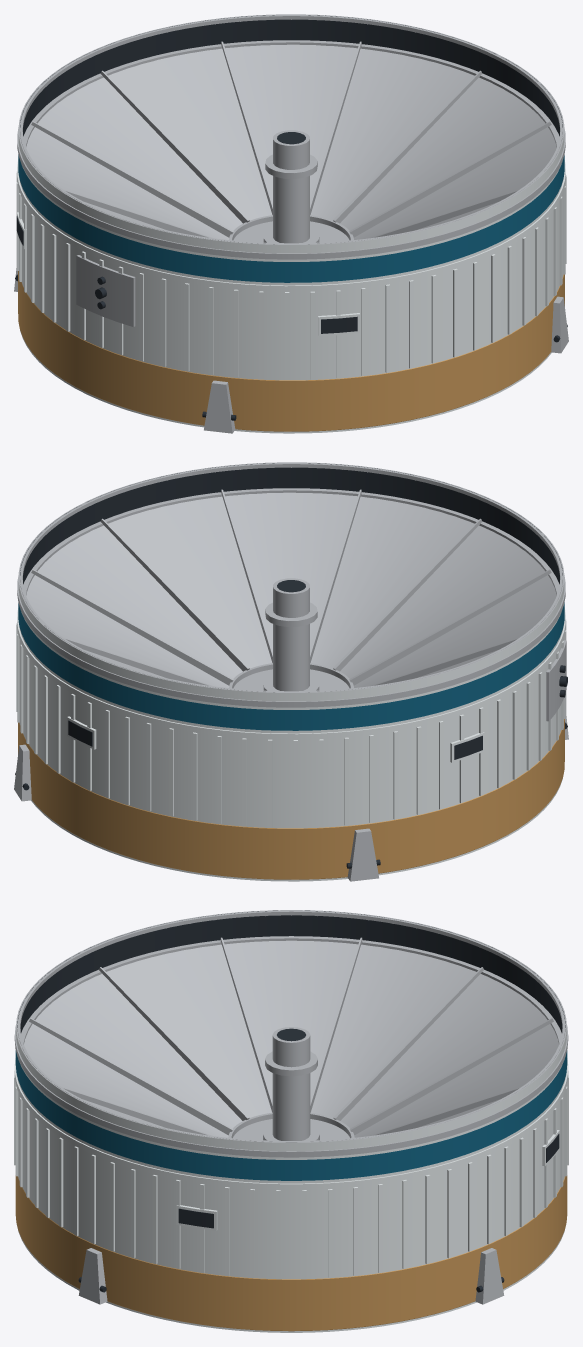
Rendered from mount_s1_1_d84.fbx.
The picture shows the model from 3 angles, top to bottom: view 1: azimuth 30°, elevation 25°; view 2: azimuth 150°, elevation 25°; view 3: azimuth 270°, elevation 25°; orthographic projection.
Parts seen in each view (by area): view 1: mount_s1_1_d84_LOD0; view 2: mount_s1_1_d84_LOD0; view 3: mount_s1_1_d84_LOD0.
Boxes of the visible parts, x1,y1,x2,y2 form: mount_s1_1_d84_LOD0: (14, 14, 568, 433); mount_s1_1_d84_LOD0: (14, 462, 568, 881); mount_s1_1_d84_LOD0: (14, 910, 568, 1332).
Size of what is drawn, in the model's own units: 8.46 by 3.2 by 8.46.
